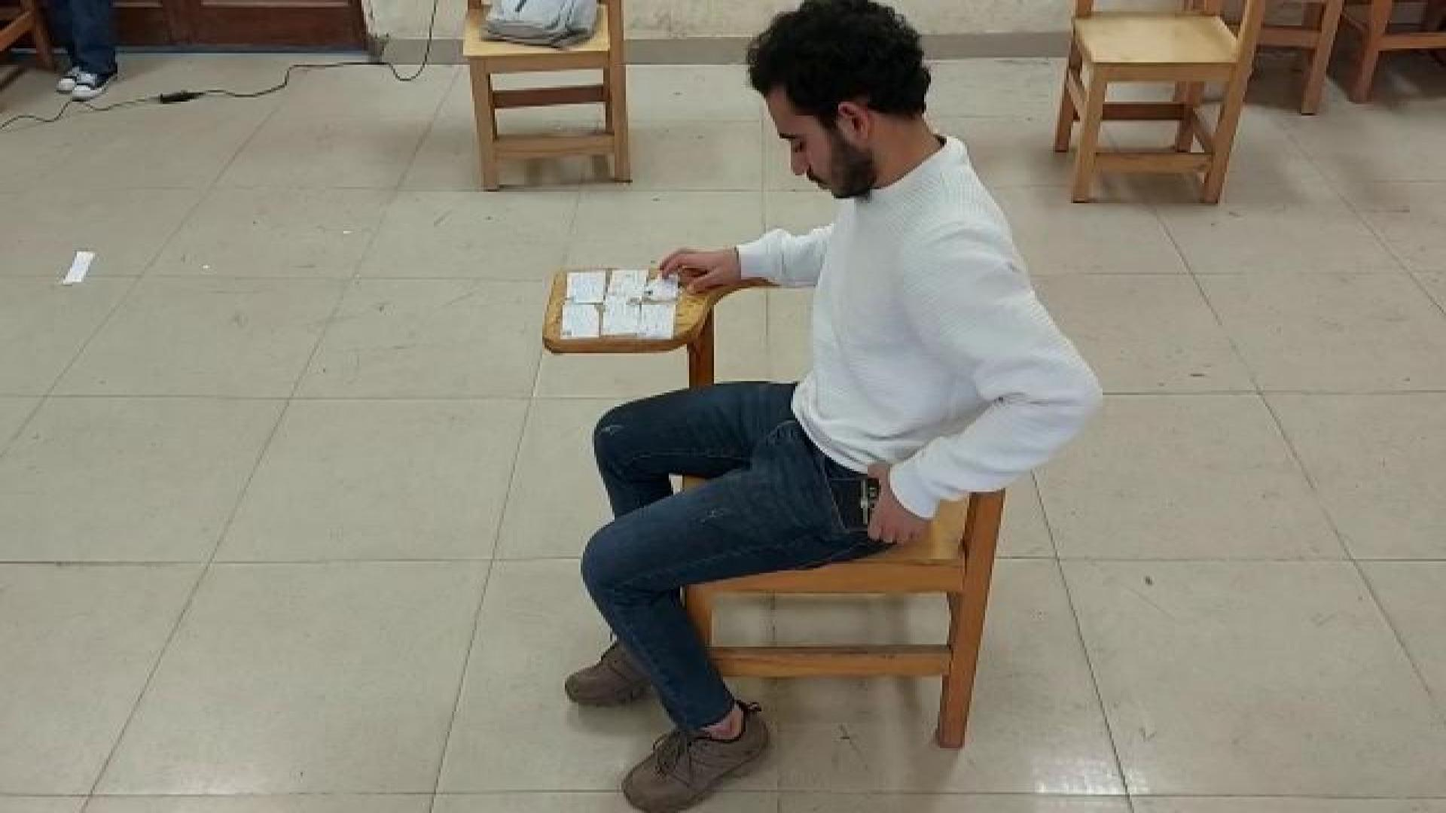phone: (813, 469, 897, 533)
